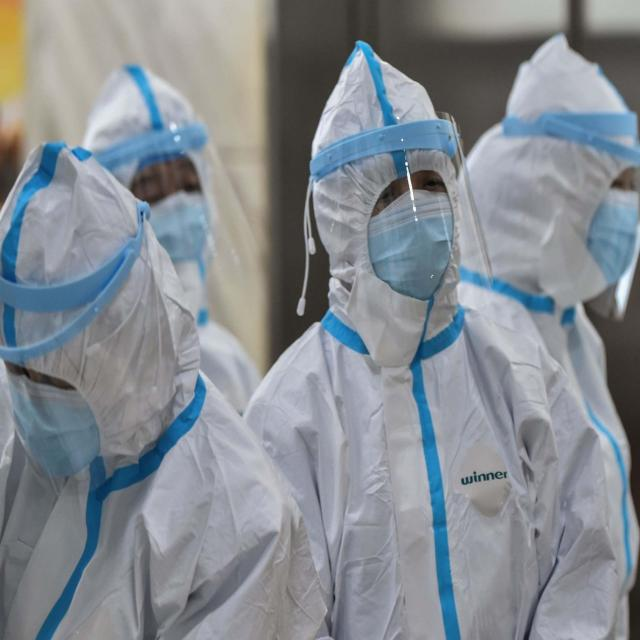Coverall: (245, 37, 618, 640), (3, 137, 309, 640), (463, 36, 640, 574), (83, 63, 260, 395)
Mask: (368, 195, 460, 300), (13, 380, 103, 479), (592, 187, 640, 281), (150, 194, 208, 261)
